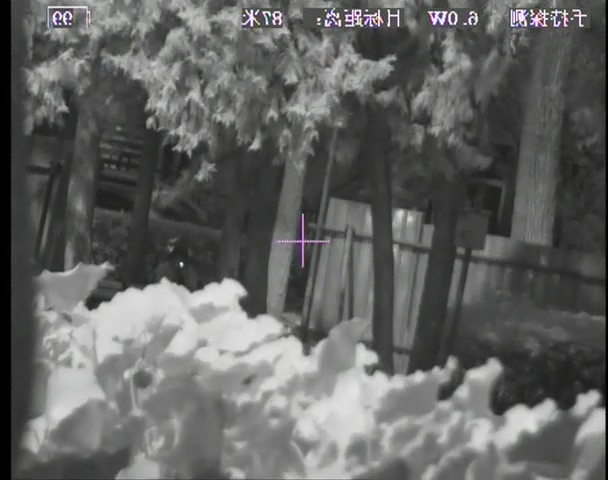my: (178, 260, 186, 269)
